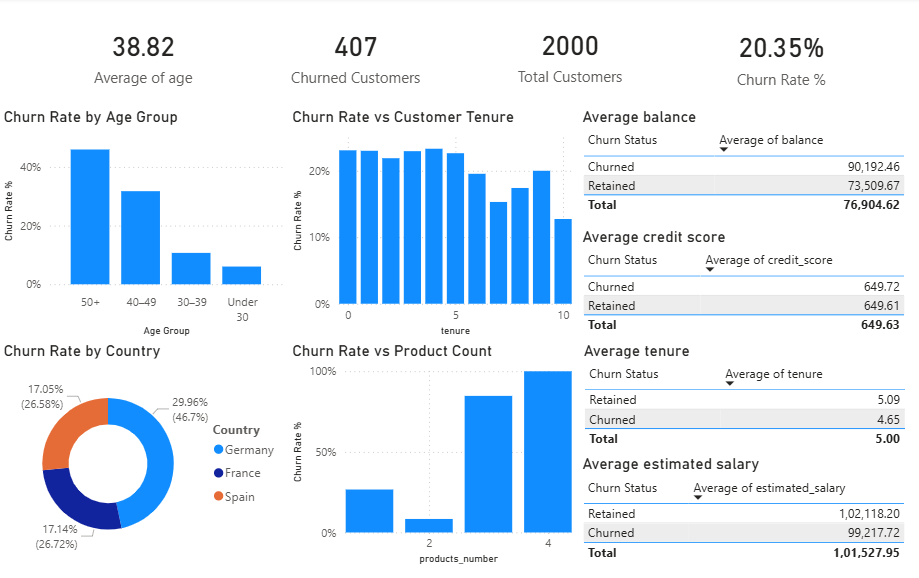

The dashboard page shown, as its layout file describes it:
{"tool":"powerbi","page":{"name":"Page 1","canvas":[1280,720],"ordinal":0},"visuals":[{"type":"card","fields":{"Values":["Avg(powerbi_churn_data.age)","select"]},"box":[0,0,312,125.6],"z":0},{"type":"card","fields":{"Values":["CountNonNull(powerbi_churn_data.credit_card)"]},"box":[505.1,0,224.2,122.9],"z":1000},{"type":"card","fields":{"Values":["Sum(powerbi_churn_data.actual_churn)"]},"box":[266,0,239,125.6],"z":2000},{"type":"card","fields":{"Values":["powerbi_churn_data.Churn Rate %"]},"box":[706.3,1.4,278.2,125.6],"z":3000},{"type":"clusteredColumnChart","title":"Churn Rate by Age Group","fields":{"Category":["powerbi_churn_data.Age Group"],"Y":["powerbi_churn_data.Churn Rate %"]},"box":[0,118.8,312,252.5],"z":4000},{"type":"clusteredColumnChart","title":"Churn Rate vs Product Count","fields":{"Category":["powerbi_churn_data.products_number"],"Y":["powerbi_churn_data.Churn Rate %"]},"box":[312,371.4,312,247.1],"z":5000},{"type":"donutChart","title":"Churn Rate by Country","fields":{"Category":["powerbi_churn_data.Country"],"Y":["powerbi_churn_data.Churn Rate %"]},"box":[0,371.4,312,247.1],"z":6000},{"type":"columnChart","title":"Churn Rate vs Customer Tenure","fields":{"Category":["powerbi_churn_data.tenure"],"Y":["powerbi_churn_data.Churn Rate %"]},"box":[312,118.8,312,252.5],"z":7000},{"type":"tableEx","title":"Average balance","fields":{"Values":["powerbi_churn_data.Churn Status","Avg(powerbi_churn_data.balance)"]},"box":[625.3,118.8,359.2,126.9],"z":8000},{"type":"tableEx","title":"Average credit score","fields":{"Values":["powerbi_churn_data.Churn Status","Avg(powerbi_churn_data.credit_score)"]},"box":[625.3,248.5,359.2,122.9],"z":9000},{"type":"tableEx","title":"Average estimated salary","fields":{"Values":["powerbi_churn_data.Churn Status","Avg(powerbi_churn_data.estimated_salary)"]},"box":[625.3,494.3,359.2,124.2],"z":10000},{"type":"tableEx","title":"Average tenure","fields":{"Values":["powerbi_churn_data.Churn Status","Avg(powerbi_churn_data.tenure)"]},"box":[626.6,371.4,357.9,122.9],"z":11000}]}

Visuals, with their boxes on the page's 1280x720 design canvas (x1, y1, x2, y2). These are canvas units, not pixel positions in the 919x578 screenshot, which may show the page scaled, cropped or inside an application window:
card - Avg(powerbi_churn_data.age) x select: crop(0, 0, 312, 126)
card - CountNonNull(powerbi_churn_data.credit_card): crop(505, 0, 729, 123)
card - Sum(powerbi_churn_data.actual_churn): crop(266, 0, 505, 126)
card - powerbi_churn_data.Churn Rate %: crop(706, 1, 984, 127)
"Churn Rate by Age Group" clusteredColumnChart: crop(0, 119, 312, 371)
"Churn Rate vs Product Count" clusteredColumnChart: crop(312, 371, 624, 618)
"Churn Rate by Country" donutChart: crop(0, 371, 312, 618)
"Churn Rate vs Customer Tenure" columnChart: crop(312, 119, 624, 371)
"Average balance" tableEx: crop(625, 119, 984, 246)
"Average credit score" tableEx: crop(625, 248, 984, 371)
"Average estimated salary" tableEx: crop(625, 494, 984, 618)
"Average tenure" tableEx: crop(627, 371, 984, 494)
